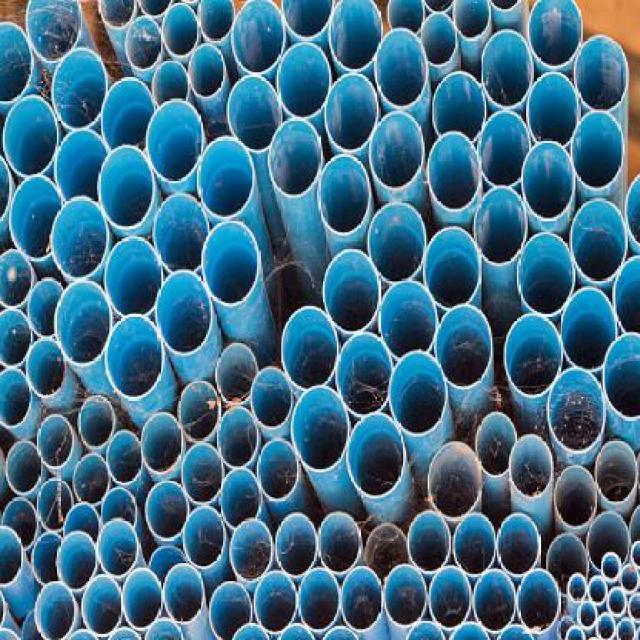pipe: (105, 314, 165, 400), (291, 385, 350, 472), (347, 413, 406, 500), (54, 280, 112, 368), (97, 145, 156, 231), (423, 226, 482, 312), (517, 232, 576, 318), (389, 351, 448, 437), (548, 366, 606, 453), (323, 249, 382, 334), (377, 280, 438, 362), (202, 220, 260, 306), (154, 270, 212, 356), (146, 98, 204, 184), (503, 314, 562, 398), (434, 305, 492, 390), (282, 306, 340, 391), (197, 137, 256, 220), (368, 201, 427, 284), (560, 288, 618, 372), (571, 199, 628, 284), (337, 332, 394, 416), (152, 192, 210, 274), (51, 196, 108, 279), (3, 95, 60, 178), (103, 237, 162, 316), (53, 48, 109, 130), (10, 176, 63, 262), (474, 185, 528, 268), (522, 138, 576, 220), (317, 154, 371, 236), (426, 133, 481, 213), (569, 111, 624, 191), (268, 117, 322, 198), (374, 28, 428, 109), (574, 36, 630, 113), (277, 42, 332, 120), (323, 74, 378, 152), (369, 112, 424, 190), (480, 30, 534, 109), (428, 442, 482, 520), (100, 77, 156, 152), (228, 75, 282, 152), (477, 109, 531, 186), (526, 72, 580, 148), (231, 0, 286, 74), (54, 129, 108, 204), (432, 71, 486, 144), (329, 0, 383, 72), (527, 0, 581, 68), (24, 0, 80, 62), (602, 332, 640, 420), (509, 434, 554, 499), (365, 523, 410, 588), (517, 568, 561, 634), (472, 569, 516, 634), (0, 22, 34, 105), (452, 512, 496, 576), (497, 512, 541, 576), (428, 566, 472, 630), (257, 439, 300, 504), (556, 465, 599, 529), (183, 506, 226, 570), (408, 509, 451, 573), (276, 514, 319, 578), (231, 519, 274, 583), (340, 566, 383, 630), (297, 568, 340, 632), (249, 368, 292, 431), (319, 513, 362, 576), (385, 565, 428, 628), (254, 571, 297, 634), (594, 440, 636, 504), (546, 532, 588, 596), (217, 406, 260, 468), (146, 480, 189, 542), (82, 574, 124, 637), (586, 511, 630, 571), (476, 412, 517, 476), (215, 343, 258, 404), (182, 443, 225, 504), (209, 580, 254, 638), (178, 380, 220, 442), (140, 412, 182, 474), (220, 468, 262, 530), (57, 531, 99, 592), (163, 563, 204, 624), (34, 580, 77, 638), (97, 519, 138, 579), (123, 569, 163, 630), (26, 338, 67, 396), (282, 0, 336, 40), (28, 279, 64, 339), (162, 3, 200, 58), (6, 440, 43, 496), (189, 43, 226, 99), (420, 12, 458, 66), (126, 17, 163, 72), (37, 477, 74, 532), (106, 430, 142, 486), (79, 396, 116, 450), (37, 414, 74, 468), (74, 452, 111, 506), (0, 307, 32, 369), (0, 368, 32, 429), (3, 497, 39, 550), (0, 250, 32, 308), (151, 60, 190, 107), (31, 531, 62, 586), (452, 0, 490, 42), (63, 503, 100, 546), (197, 0, 234, 42), (102, 486, 139, 527), (0, 526, 23, 588), (386, 0, 426, 35), (99, 0, 136, 30), (600, 552, 621, 583), (606, 586, 627, 617), (595, 613, 618, 640), (620, 565, 640, 595), (588, 576, 608, 606), (568, 574, 588, 603), (577, 600, 597, 628), (617, 617, 637, 640), (628, 592, 639, 623)
